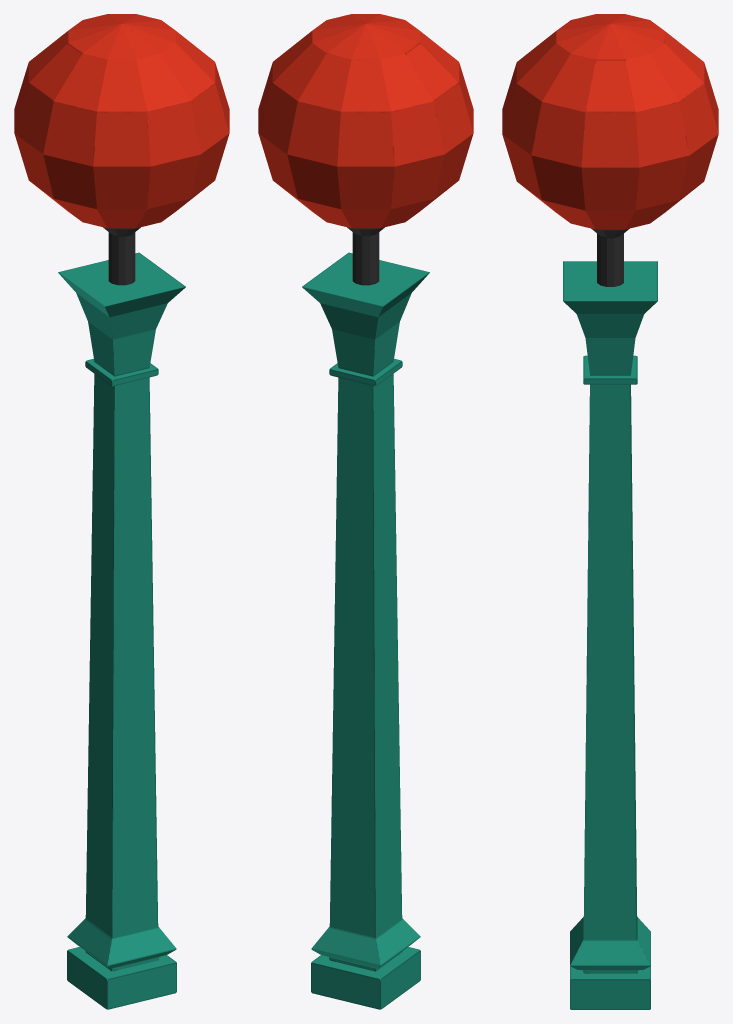
File: nyc_subway_entrance_1_globe_light_2r.obj
3 renders of one model, left to right at view 1: azimuth 30°, elevation 25°; view 2: azimuth 150°, elevation 25°; view 3: azimuth 270°, elevation 25°, orthographic.
Parts seen in each view (by area): view 1: cube, sphere, cylinder; view 2: cube, sphere, cylinder; view 3: cube, sphere, cylinder.
Boxes of the visible parts, <box> form: cube: <box>58,252,185,1009</box>; sphere: <box>14,14,229,228</box>; cylinder: <box>103,227,140,285</box>; cube: <box>302,252,429,1009</box>; sphere: <box>258,14,473,228</box>; cylinder: <box>347,227,384,285</box>; cube: <box>563,261,657,1009</box>; sphere: <box>502,14,718,229</box>; cylinder: <box>591,228,629,286</box>.
Size of the model in its own units: 0.5 by 2.47 by 0.5.
Materials: 1 (1 with a texture image).
